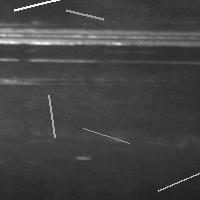scratches: (1, 21, 200, 49), (2, 55, 115, 70), (153, 159, 200, 195), (78, 123, 134, 148), (9, 0, 92, 15), (61, 5, 108, 24), (44, 90, 60, 142)
